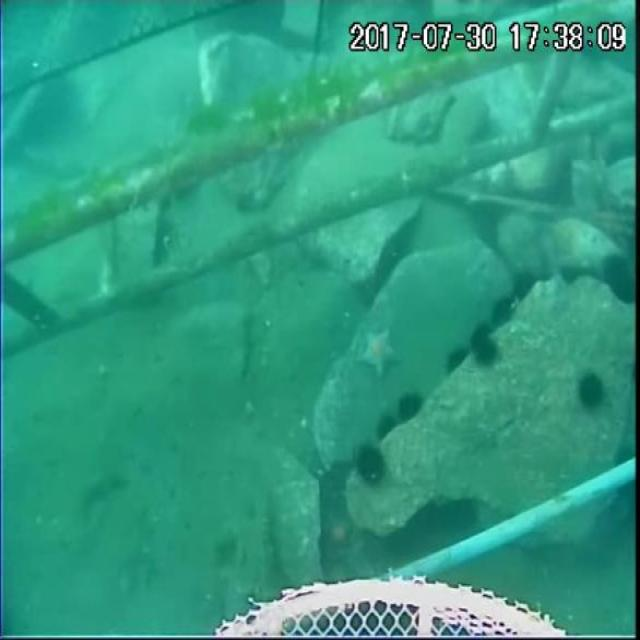echinus: (353, 444, 389, 491), (605, 251, 636, 301), (444, 496, 479, 537), (577, 367, 607, 413), (414, 502, 446, 542), (395, 389, 426, 422), (441, 346, 472, 374), (490, 298, 516, 330), (468, 322, 492, 354), (376, 412, 402, 440), (476, 335, 500, 365), (514, 270, 538, 298)
starfish: (356, 327, 404, 382), (320, 507, 356, 557)
